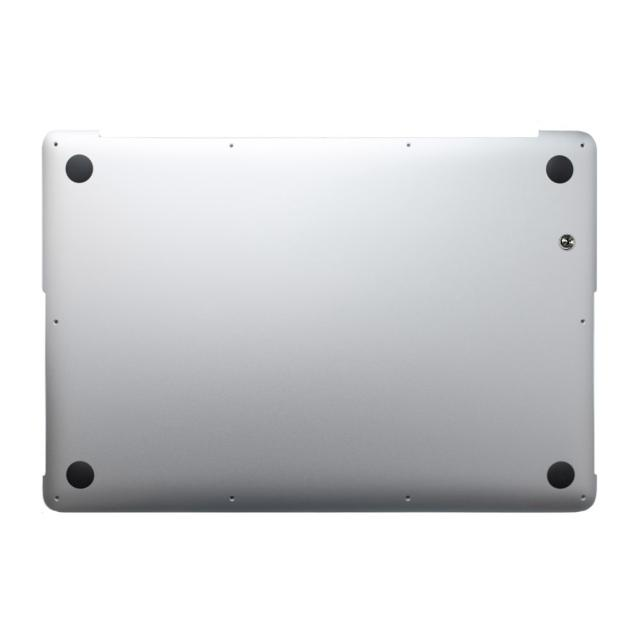lock: (558, 234, 575, 250)
